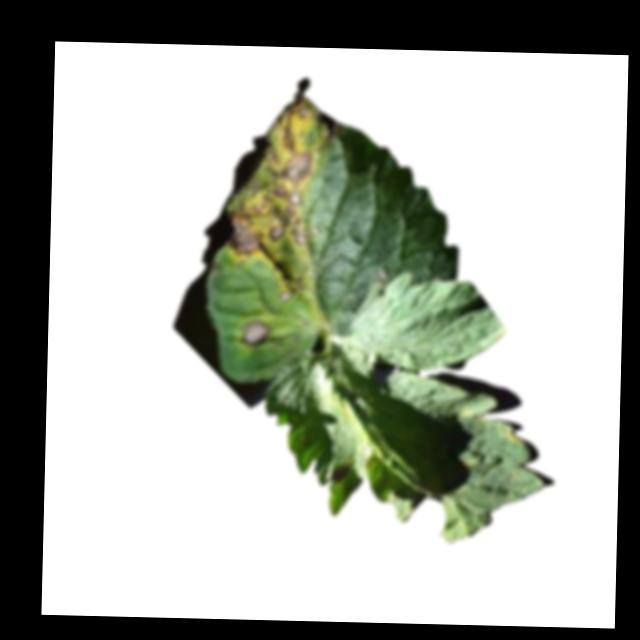Early_blight: (227, 94, 340, 259), (239, 320, 271, 346), (278, 273, 304, 301), (331, 463, 350, 484)
